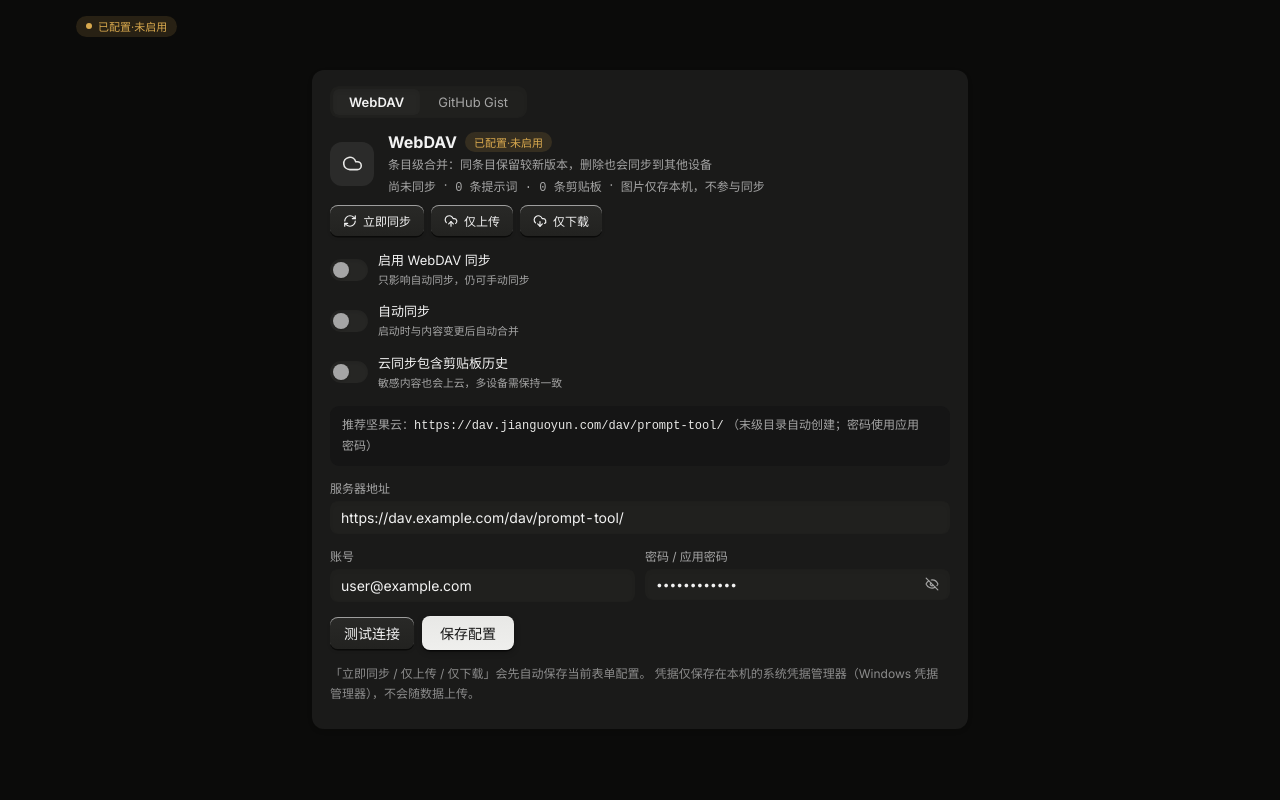
it: SyncPane：云同步设置 › 测试连接（WebDAV）：成功显示 ✓，失败显示 ✗
Click the button "测试连接".
click(372, 633)  # box x1=330 y1=617 x2=414 y2=649
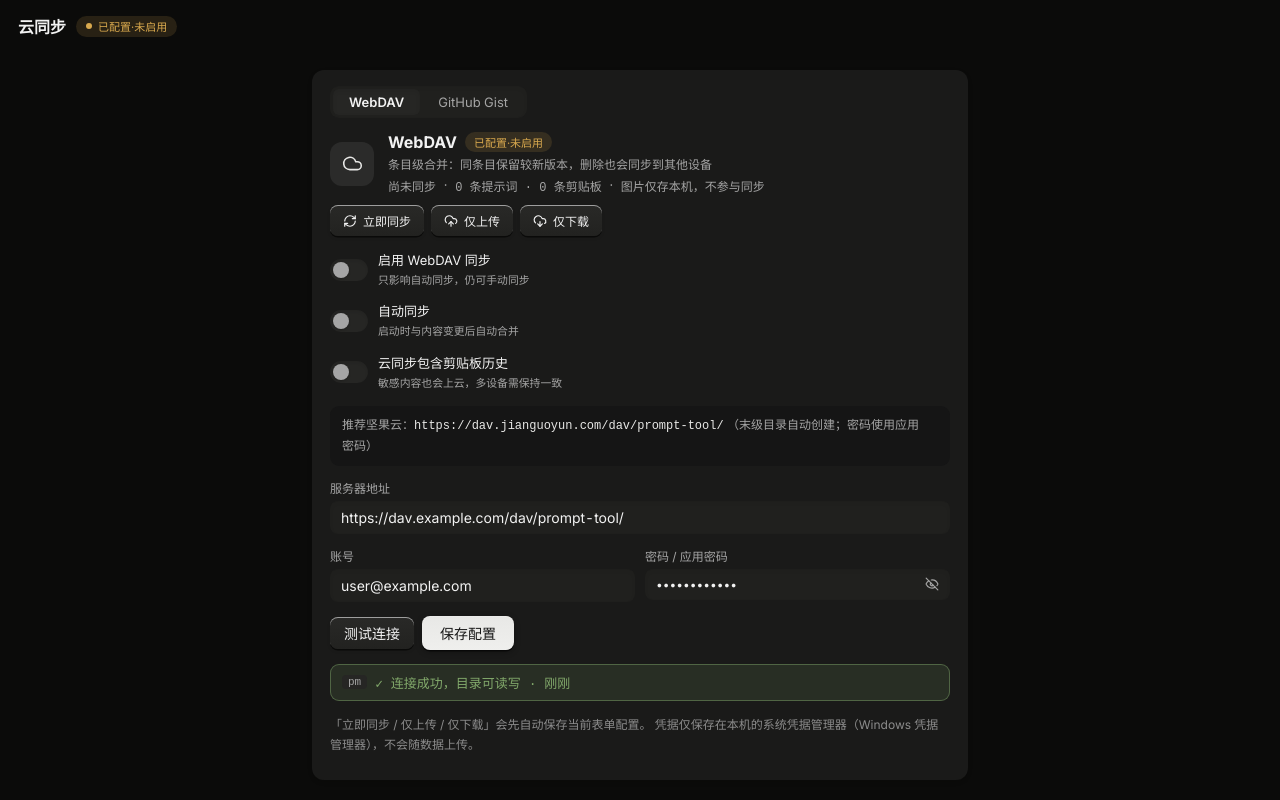
Expected: the element with class "status" shows "✓ 连接成功", x1=375 y1=677 x2=521 y2=692
Click the button "测试连接".
click(372, 633)  # box x1=330 y1=617 x2=414 y2=649
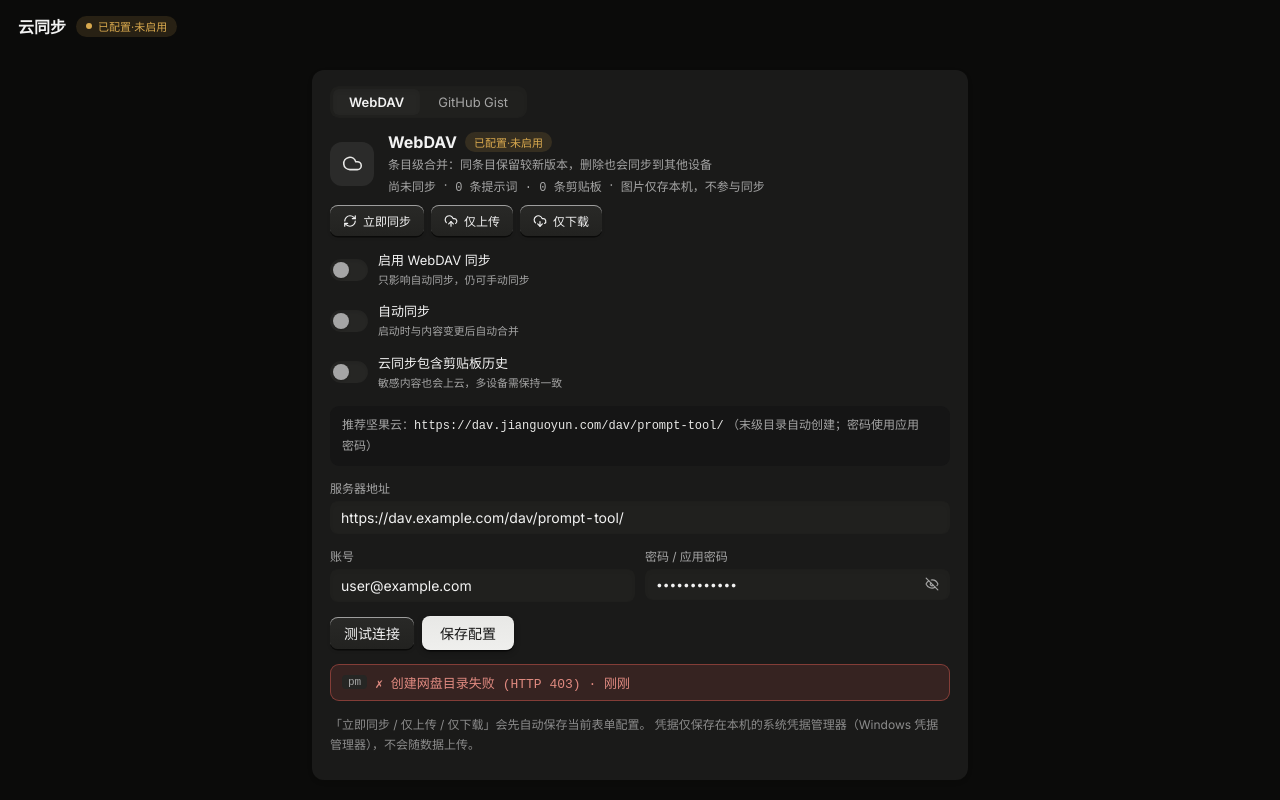
Expected: the element with class "status" shows "✗ 创建网盘目录失败 (HTTP 403)", x1=375 y1=677 x2=581 y2=692
